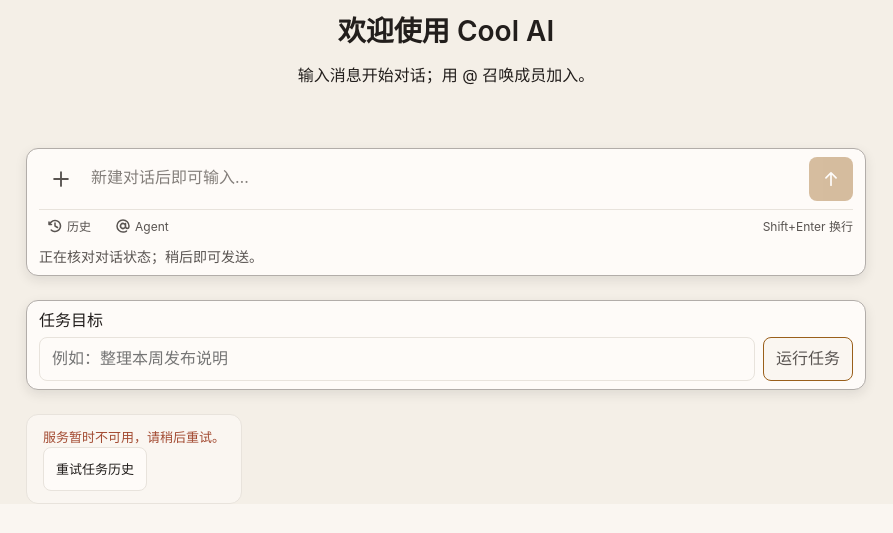
Scenario: task event flow › offers retry after a load error
Expected: the text "服务暂时不可用，请稍后重试。" is shown, [43,427,225,447]
Click the button "重试任务历史" at (95,469), box [43,447,147,491]
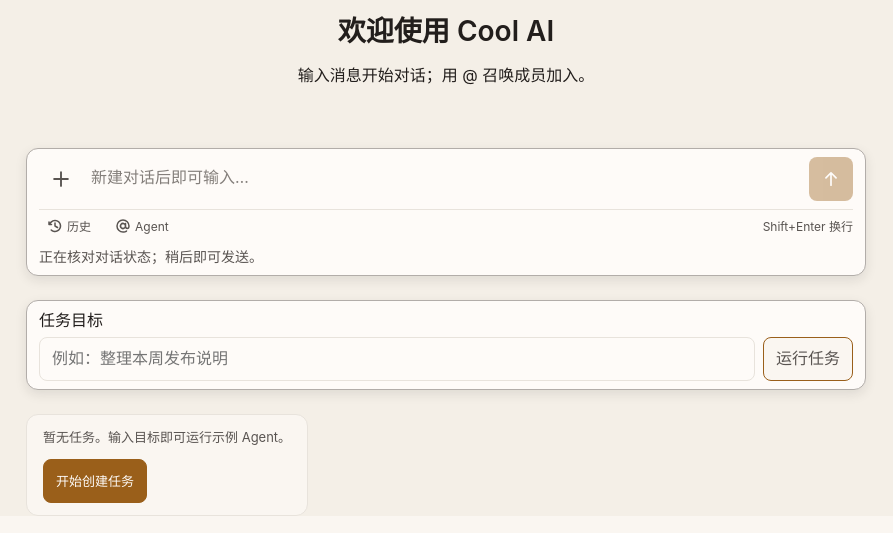
Expected: the text "暂无任务。输入目标即可运行示例 Agent。" is shown, [43,427,291,447]
